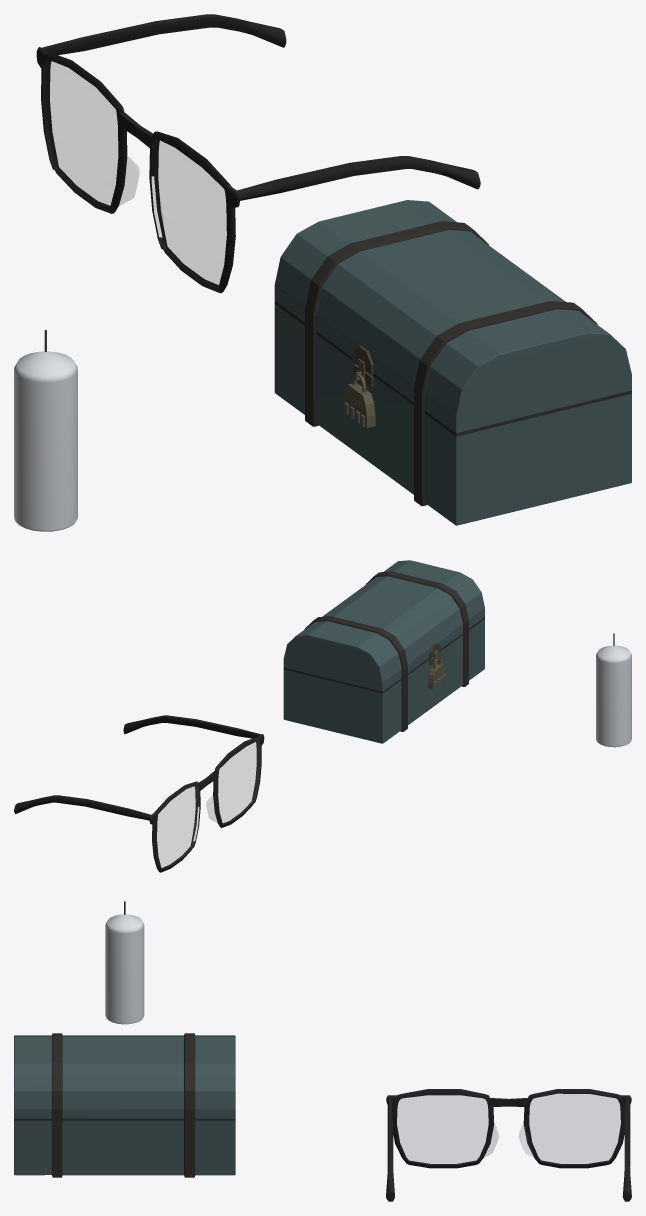
3 views of the same model, one above another, from view 1: azimuth 30°, elevation 25°; view 2: azimuth 150°, elevation 25°; view 3: azimuth 270°, elevation 25° (orthographic). The views are drawn at different scales.
Visible parts, largest first — view 1: box, glasses1, candle1; view 2: box, glasses1, candle1; view 3: box, glasses1, candle1.
Boxes of the visible parts, <box> form: box: <box>274,200,631,525</box>; glasses1: <box>36,14,480,293</box>; candle1: <box>14,330,77,531</box>; box: <box>283,560,484,743</box>; glasses1: <box>14,715,264,872</box>; candle1: <box>596,633,631,747</box>; box: <box>14,1033,235,1177</box>; glasses1: <box>386,1089,631,1201</box>; candle1: <box>105,901,144,1024</box>.
Bounding box in the file's own units: 5.02 × 1.69 × 6.5.
